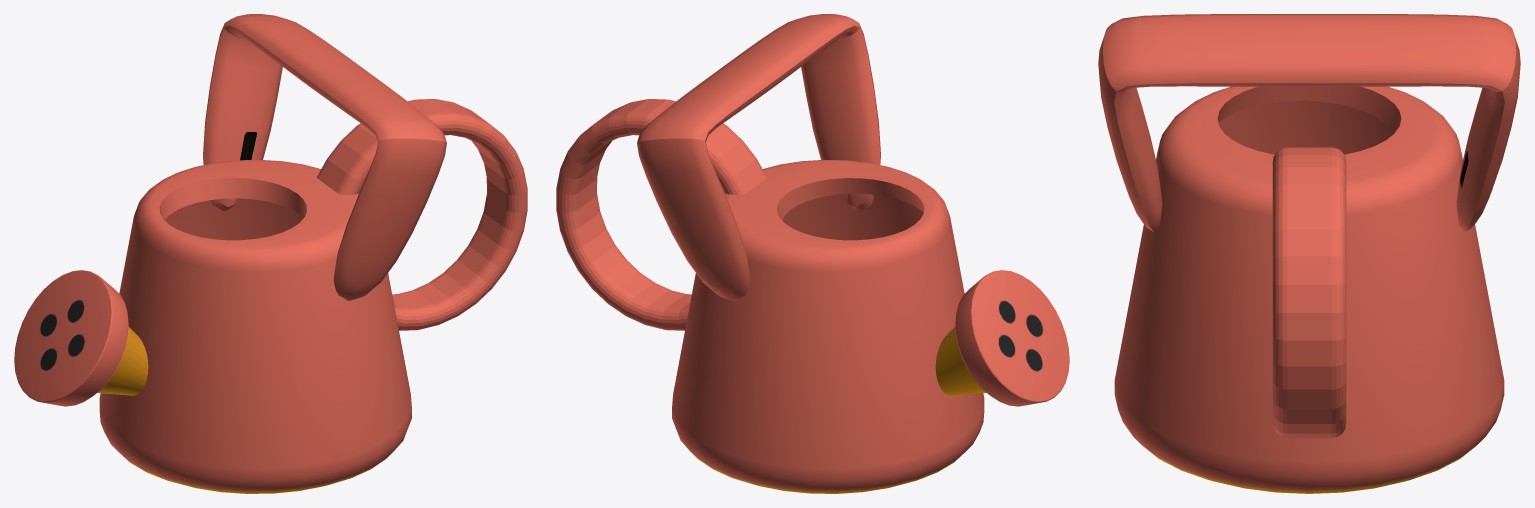
Rendered from 물뿌리개.fbx.
The picture shows the model from 3 angles, left to right: view 1: azimuth 30°, elevation 25°; view 2: azimuth 150°, elevation 25°; view 3: azimuth 270°, elevation 25°; orthographic projection. The views are drawn at different scales.
Parts seen in each view (by area): view 1: watering_can; view 2: watering_can; view 3: watering_can.
Boxes of the visible parts, bbox=[...] form: watering_can: bbox=[14, 14, 527, 493]; watering_can: bbox=[556, 14, 1069, 493]; watering_can: bbox=[1098, 14, 1520, 493].
Bounding box in the file's own units: 56.31 × 39.4 × 33.88.
